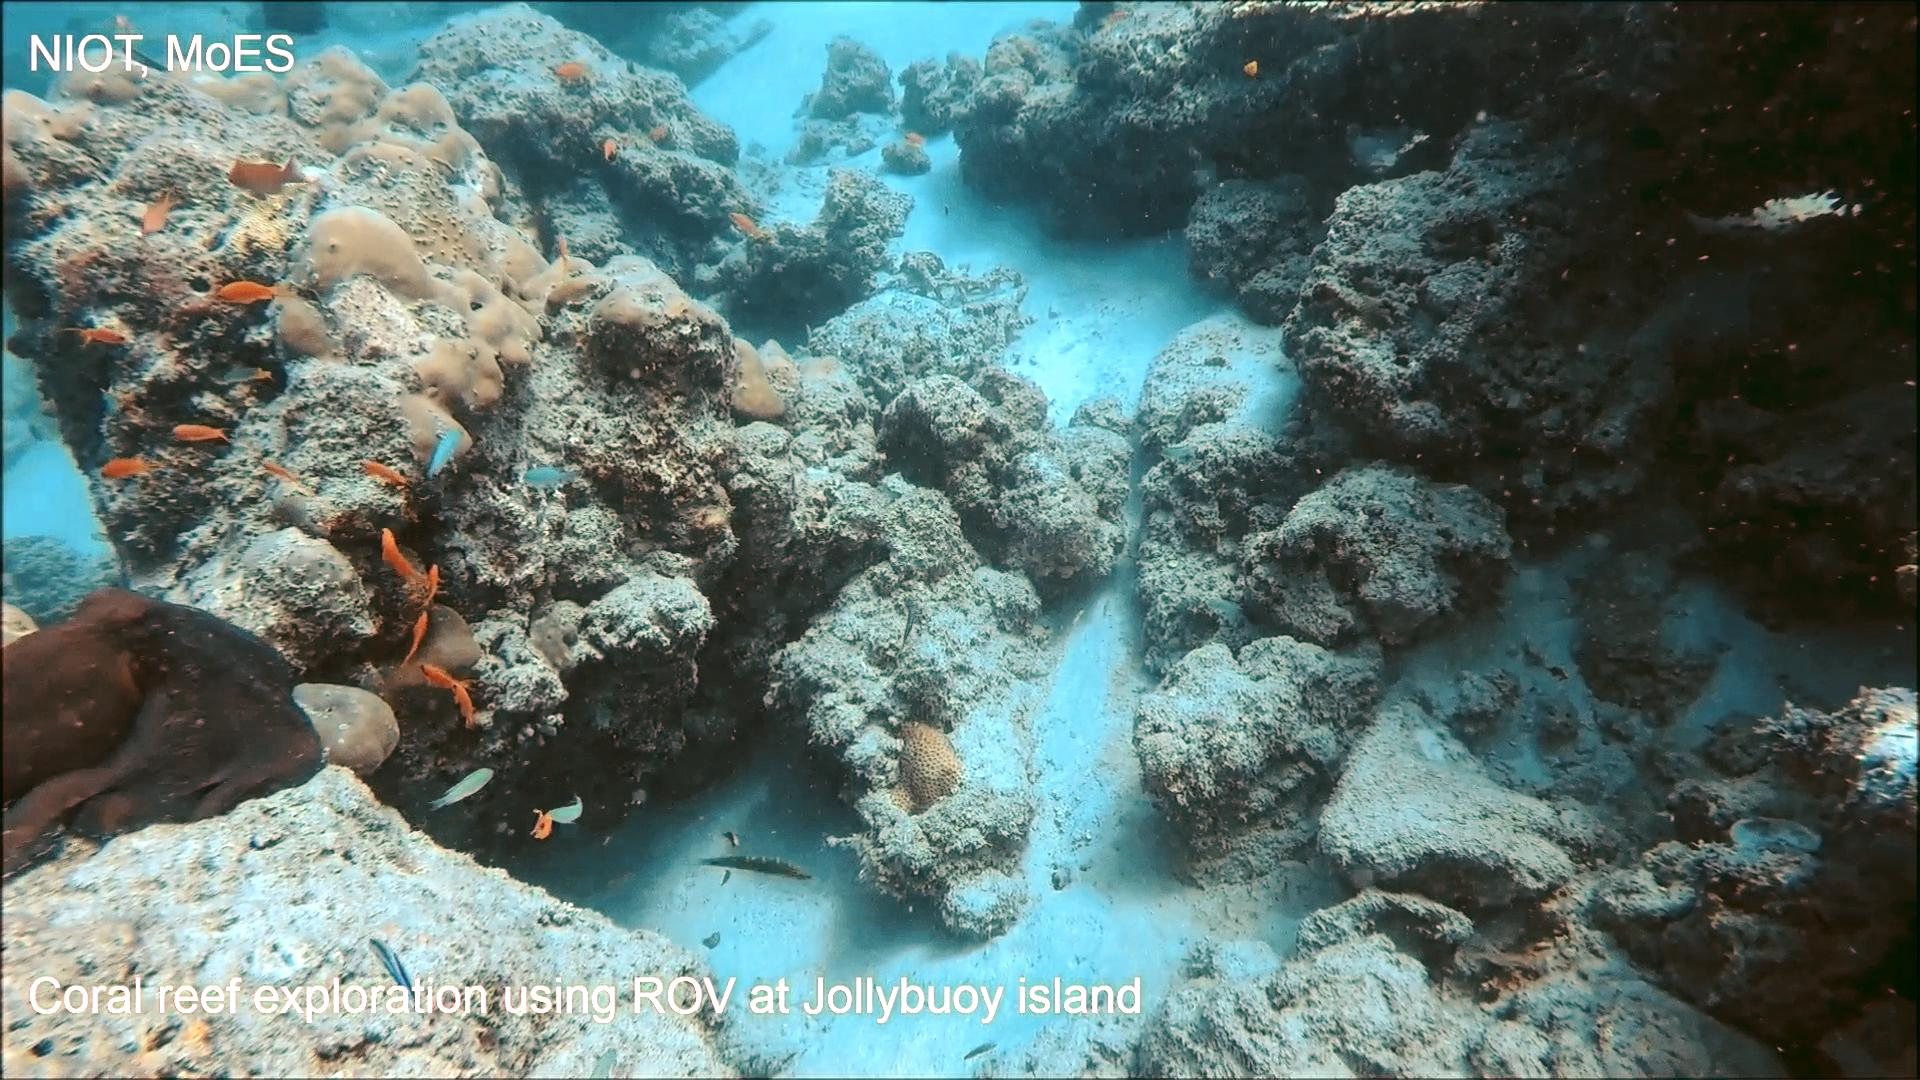Porites-Porites pukoensis: (251, 38, 611, 480)
